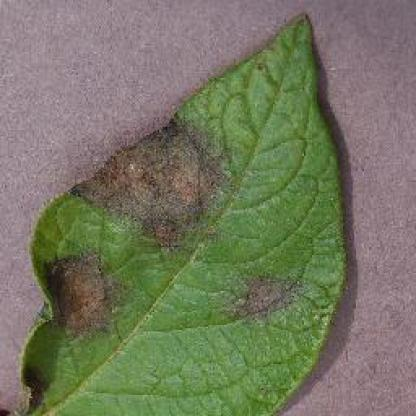bad leaf: (38, 12, 324, 410)
